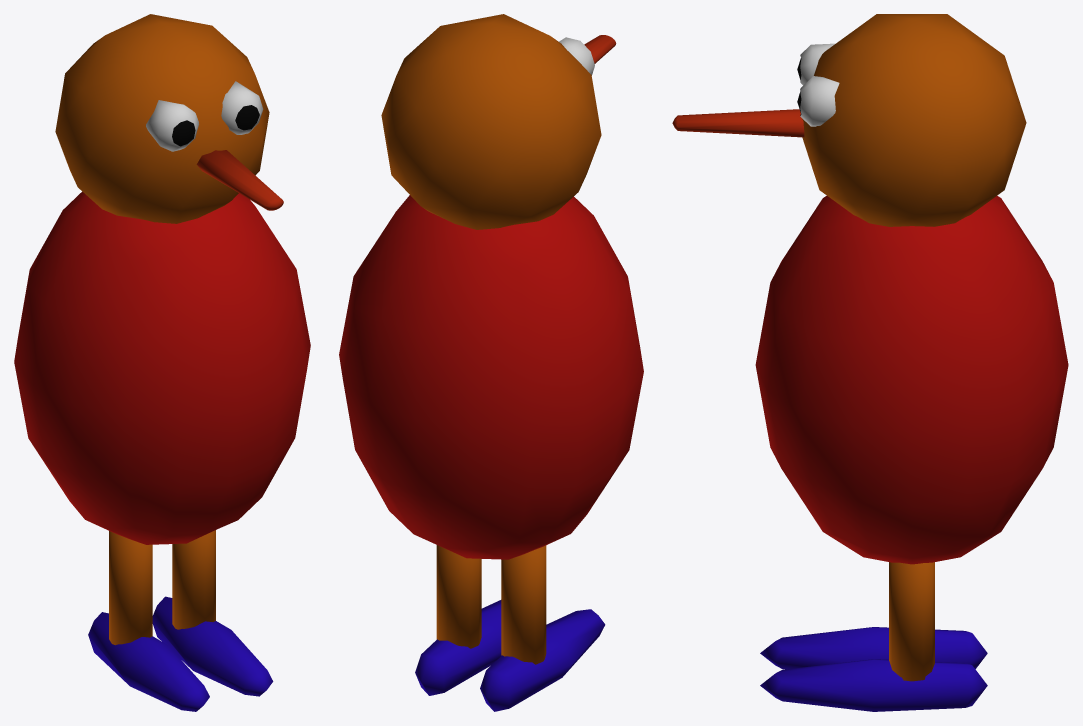
Rendered from testchar2.obj.
3 views of the same model, side by side, from view 1: azimuth 30°, elevation 25°; view 2: azimuth 150°, elevation 25°; view 3: azimuth 270°, elevation 25° (orthographic). The views are drawn at different scales.
Parts seen in each view (by area): view 1: Cube, Icosphere, Cube.002, Cube.001, Cylinder, Cylinder.001, Icosphere.001_Icosphere.002, Cylinder.002; view 2: Cube, Icosphere, Cube.002, Cylinder, Cylinder.001, Cube.001, Icosphere.001_Icosphere.002, Cylinder.002; view 3: Cube, Icosphere, Cube.001, Cube.002, Cylinder.001, Cylinder.002, Icosphere.001_Icosphere.002.
Boxes of the visible parts, bbox=[...] form: Cube: bbox=[14, 191, 310, 544]; Icosphere: bbox=[55, 14, 269, 223]; Cube.002: bbox=[88, 612, 209, 711]; Cube.001: bbox=[152, 596, 273, 696]; Cylinder: bbox=[109, 531, 152, 645]; Cylinder.001: bbox=[172, 530, 215, 629]; Icosphere.001_Icosphere.002: bbox=[146, 81, 263, 151]; Cylinder.002: bbox=[196, 150, 283, 210]; Cube: bbox=[339, 195, 643, 559]; Icosphere: bbox=[381, 14, 601, 229]; Cube.002: bbox=[480, 609, 605, 711]; Cylinder: bbox=[501, 545, 546, 664]; Cylinder.001: bbox=[436, 545, 481, 648]; Cube.001: bbox=[415, 600, 501, 695]; Icosphere.001_Icosphere.002: bbox=[559, 37, 594, 75]; Cylinder.002: bbox=[584, 35, 616, 63]; Cube: bbox=[755, 195, 1068, 564]; Icosphere: bbox=[802, 14, 1026, 226]; Cube.001: bbox=[760, 659, 987, 711]; Cube.002: bbox=[760, 627, 987, 669]; Cylinder.001: bbox=[889, 562, 934, 681]; Cylinder.002: bbox=[672, 109, 804, 137]; Icosphere.001_Icosphere.002: bbox=[797, 43, 839, 126].
Size of the model in its own units: 4.1 by 9.77 by 5.19.
